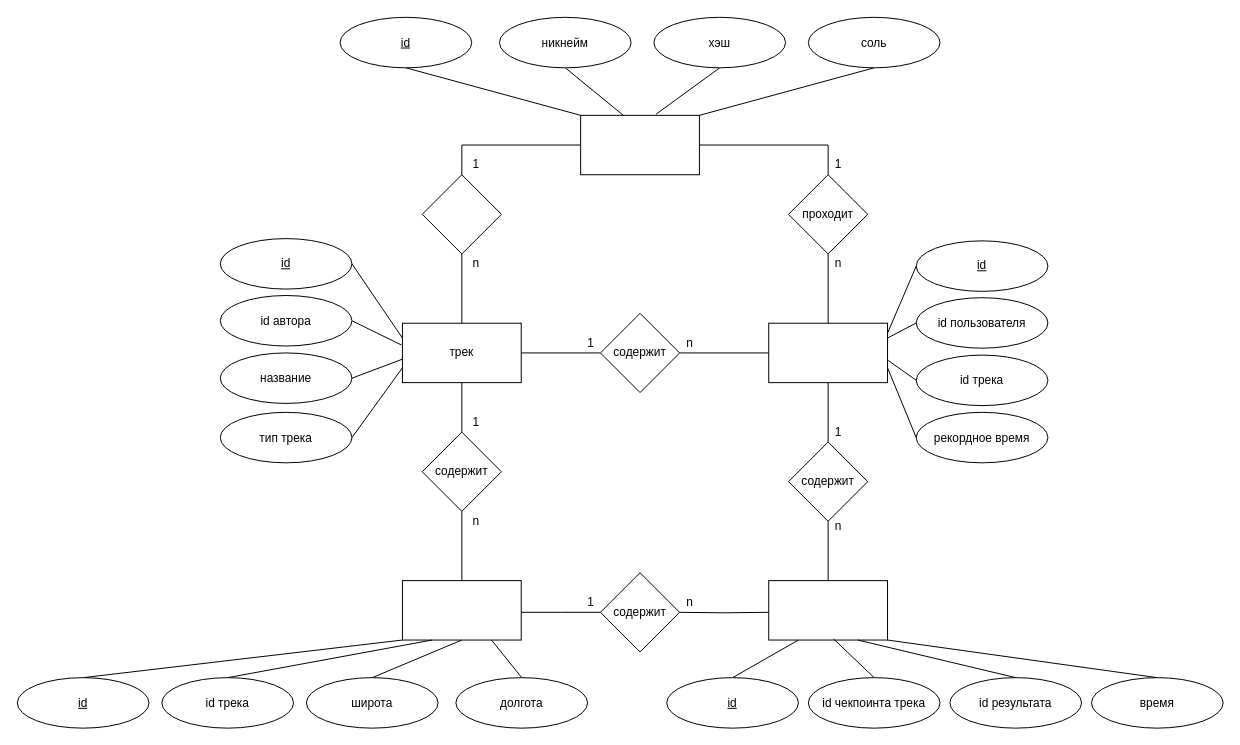
The diagram is 1240 pixels wide and 745 high, and some of its shapes have lost their labels. Each missing label, with the box of its shape:
пользователь: (580, 114, 699, 175)
результат: (768, 322, 888, 383)
создает: (421, 174, 501, 254)
чекпоинт результата: (768, 580, 888, 640)
чекпоинт трека: (401, 580, 521, 640)
